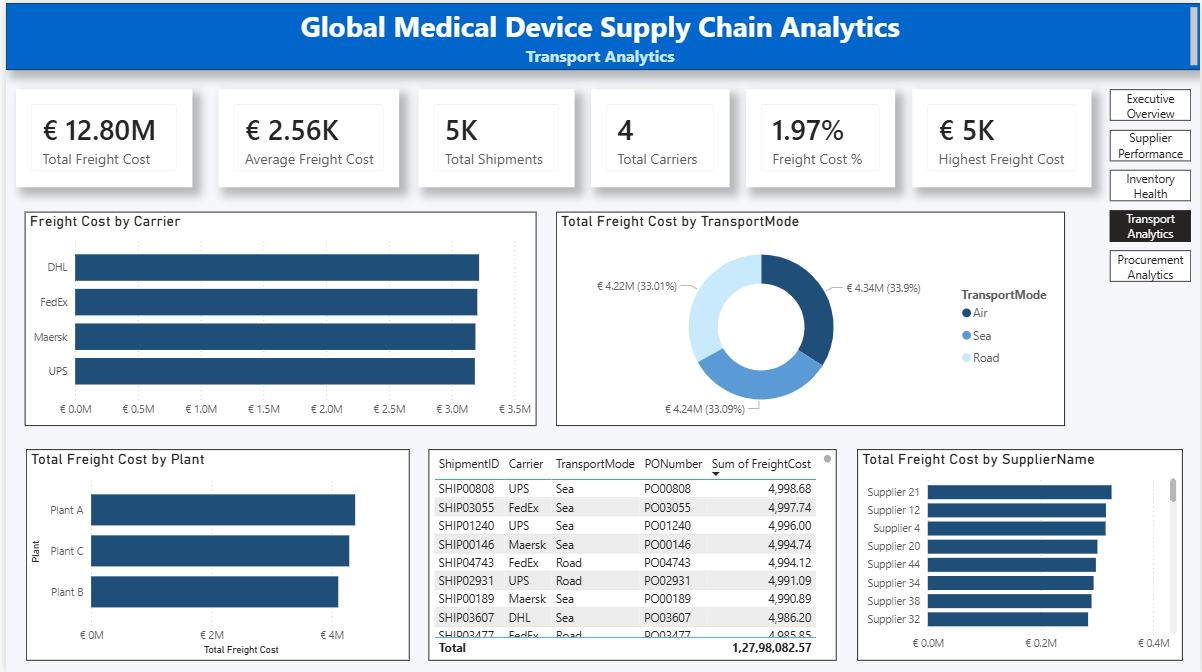

This screenshot's page, from the dashboard's own definition file:
{"tool":"powerbi","page":{"name":"Transport Analytics","canvas":[1366,768],"ordinal":4},"visuals":[{"type":"shape","box":[0,0,1366.7,76.7],"z":0},{"type":"textbox","box":[0,0,1366.7,76.7],"z":1000},{"type":"cardVisual","fields":{"Data":["DAX Measures.Total Freight Cost"]},"box":[11.7,98.3,201.7,111.7],"z":2000},{"type":"cardVisual","fields":{"Data":["DAX Measures.Average Freight Cost"]},"box":[243.3,98.3,206.7,111.7],"z":3000},{"type":"cardVisual","fields":{"Data":["DAX Measures.Total Shipments"]},"box":[471.7,98.3,178.3,111.7],"z":4000},{"type":"cardVisual","fields":{"Data":["DAX Measures.Total Carriers"]},"box":[668.3,98.3,158.3,111.7],"z":5000},{"type":"cardVisual","fields":{"Data":["DAX Measures.Freight Cost %"]},"box":[845,98.3,170,111.7],"z":6000},{"type":"cardVisual","fields":{"Data":["DAX Measures.Highest Freight Cost"]},"box":[1035,98.3,205,111.7],"z":7000},{"type":"clusteredBarChart","title":"Freight Cost by Carrier","fields":{"Category":["Shipments.Carrier"],"Y":["DAX Measures.Total Freight Cost"]},"box":[21.7,238.3,585,245],"z":8000},{"type":"donutChart","fields":{"Category":["Shipments.TransportMode"],"Y":["DAX Measures.Total Freight Cost"]},"box":[628.3,238.3,581.7,245],"z":9000},{"type":"clusteredBarChart","fields":{"Category":["Supplier_Master.SupplierName"],"Y":["DAX Measures.Total Freight Cost"]},"box":[972.3,509.7,371.7,241.7],"z":10000},{"type":"clusteredBarChart","fields":{"Category":["Purchase_Orders.Plant"],"Y":["DAX Measures.Total Freight Cost"]},"box":[22.3,509.7,438.3,241.7],"z":11000},{"type":"tableEx","fields":{"Values":["Shipments.ShipmentID","Shipments.Carrier","Shipments.TransportMode","Shipments.PONumber","Sum(Shipments.FreightCost)"]},"box":[482.3,509.7,466.7,241.7],"z":12000},{"type":"pageNavigator","box":[1261.7,98.3,93.3,220],"z":13000}]}

Visuals, with their boxes in screenshot pixels (x1, y1, x2, y2), scaled from the page's 1366x768 canvas onto the 1202x672 screenshot:
shape: bbox=(0, 0, 1201, 67)
textbox: bbox=(0, 0, 1201, 67)
cardVisual - DAX Measures.Total Freight Cost: bbox=(10, 86, 188, 184)
cardVisual - DAX Measures.Average Freight Cost: bbox=(214, 86, 396, 184)
cardVisual - DAX Measures.Total Shipments: bbox=(415, 86, 572, 184)
cardVisual - DAX Measures.Total Carriers: bbox=(588, 86, 727, 184)
cardVisual - DAX Measures.Freight Cost %: bbox=(744, 86, 893, 184)
cardVisual - DAX Measures.Highest Freight Cost: bbox=(911, 86, 1091, 184)
"Freight Cost by Carrier" clusteredBarChart: bbox=(19, 209, 534, 423)
donutChart - Shipments.TransportMode x DAX Measures.Total Freight Cost: bbox=(553, 209, 1065, 423)
clusteredBarChart - Supplier_Master.SupplierName x DAX Measures.Total Freight Cost: bbox=(856, 446, 1183, 657)
clusteredBarChart - Purchase_Orders.Plant x DAX Measures.Total Freight Cost: bbox=(20, 446, 405, 657)
tableEx - Shipments.ShipmentID x Shipments.Carrier: bbox=(424, 446, 835, 657)
pageNavigator: bbox=(1110, 86, 1192, 279)
